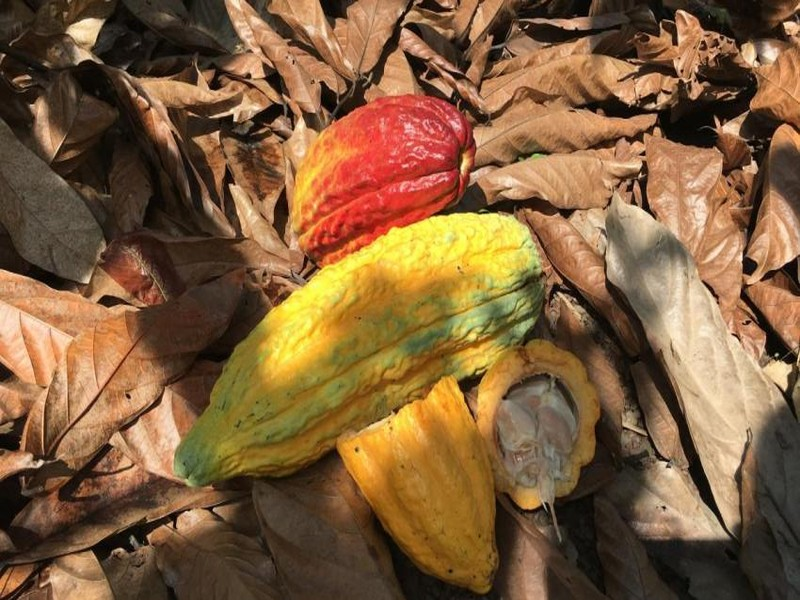Cacaopod: (176, 209, 537, 480), (289, 93, 477, 269)
